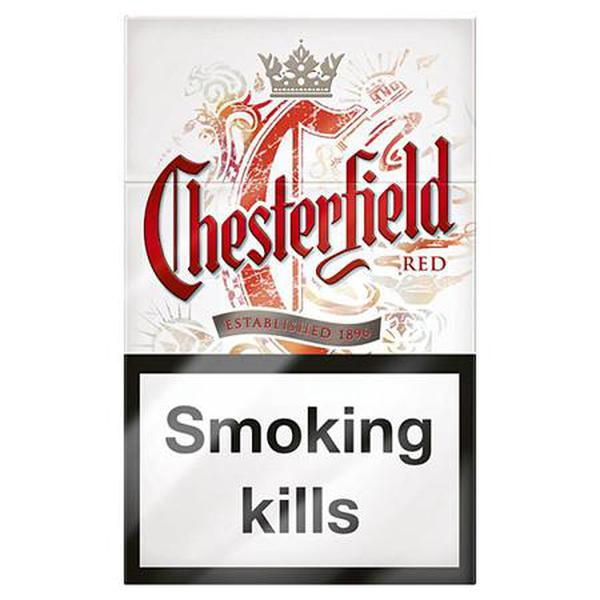chesterfield_red: (128, 19, 475, 584)
